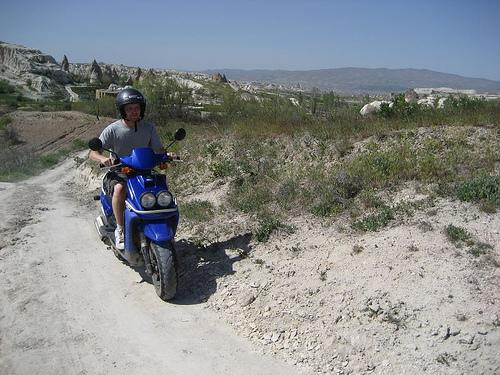motorbike: (85, 135, 186, 307)
